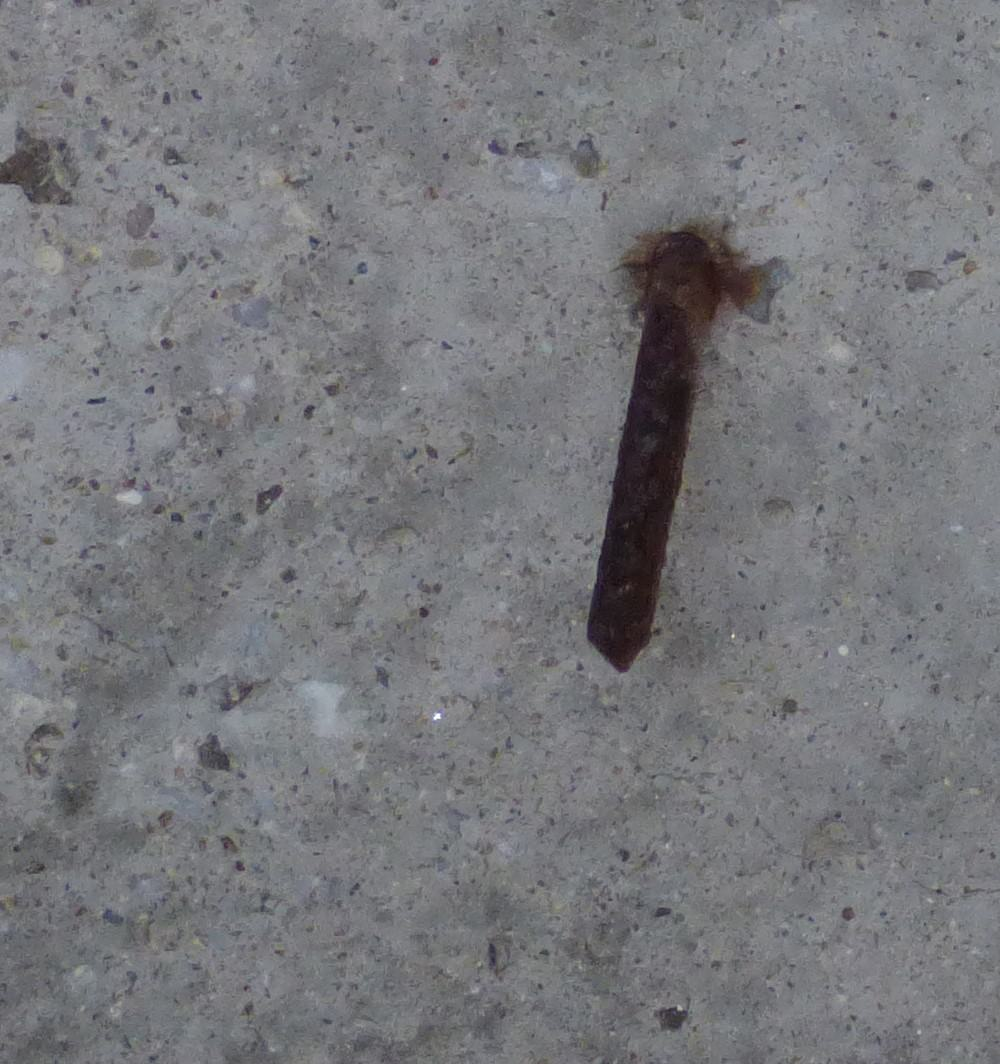Exposed reinforcement: (584, 229, 724, 675)
